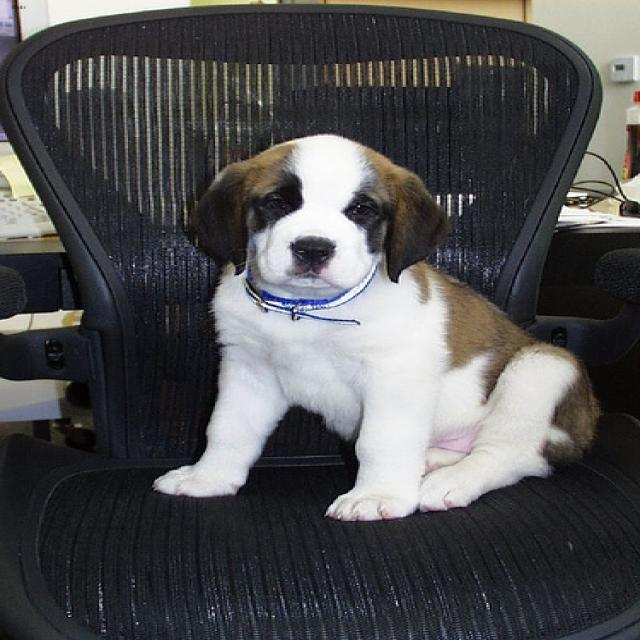dog-saint_bernard: (145, 128, 609, 530)
